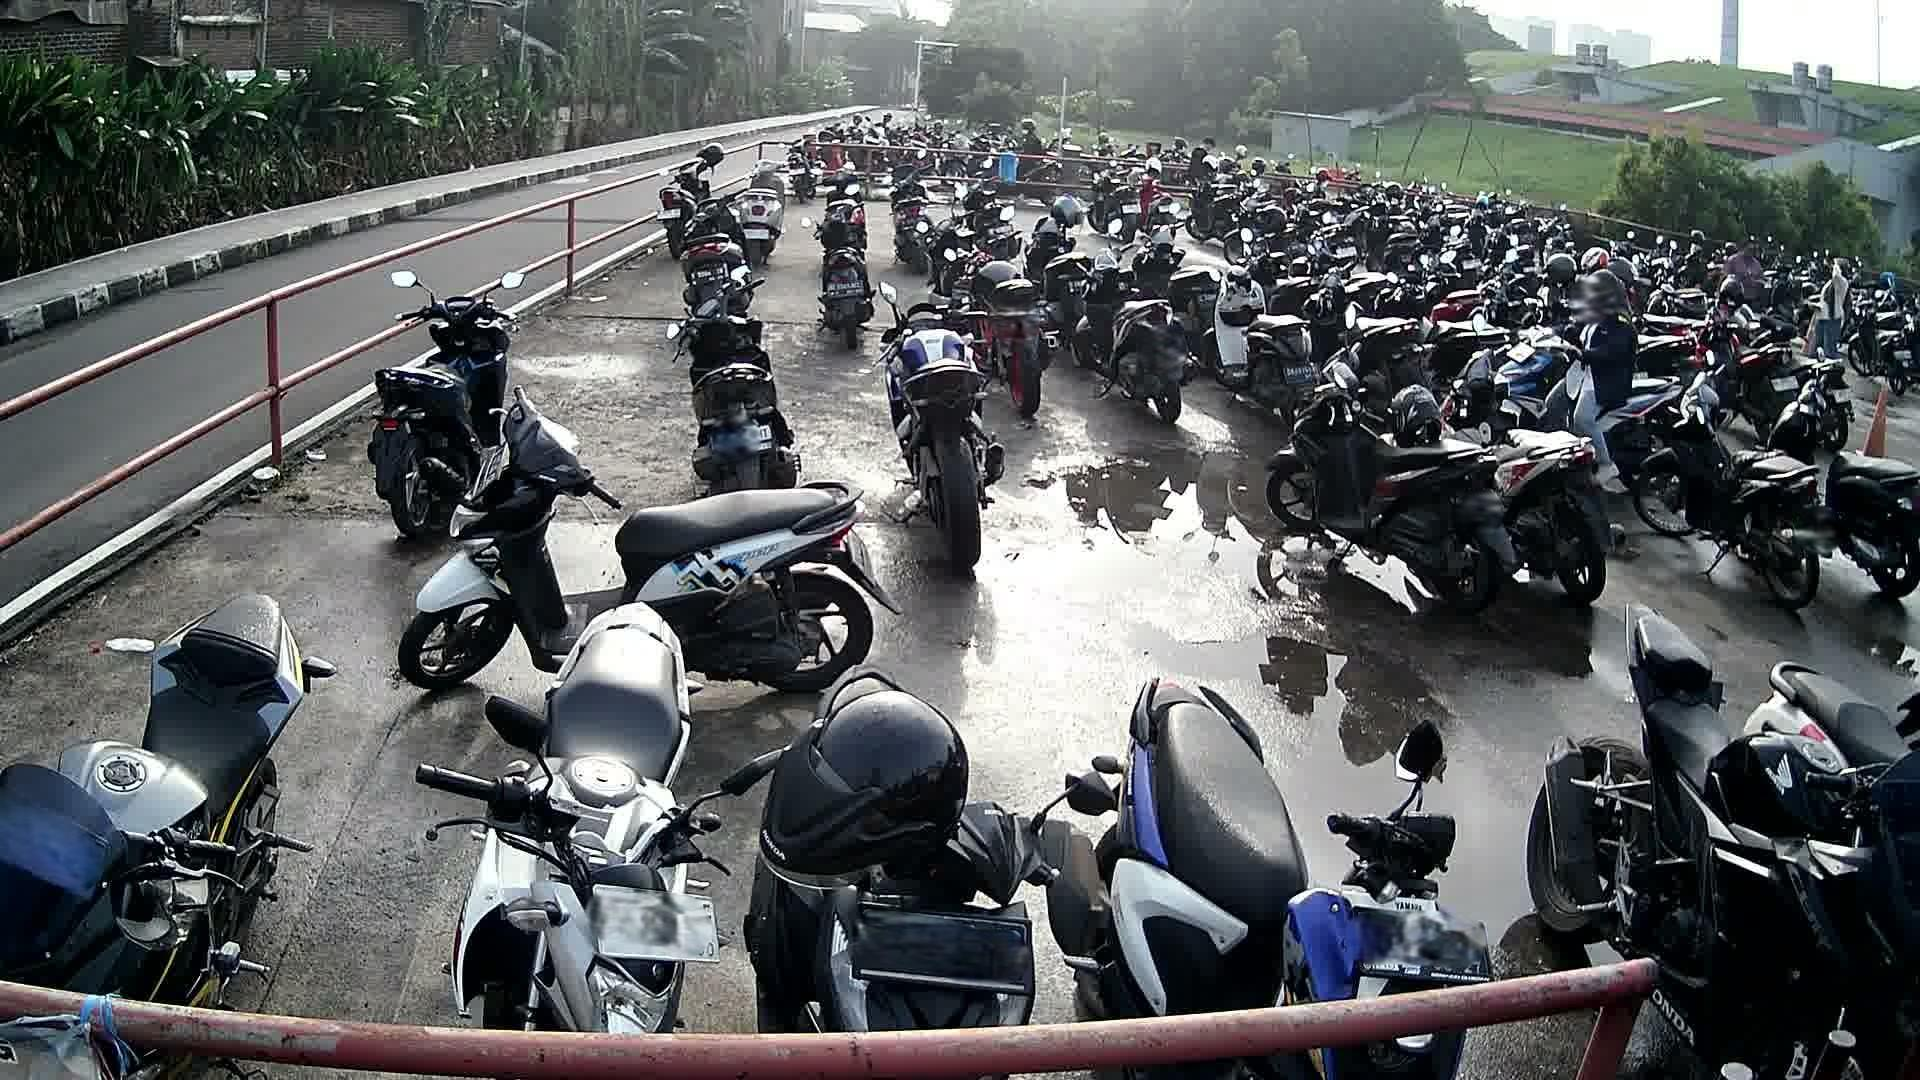motorcycle: (397, 390, 905, 691), (1043, 670, 1487, 992), (1526, 600, 1920, 957), (0, 588, 345, 996), (419, 601, 741, 1033), (741, 666, 1089, 1036), (1266, 357, 1522, 613), (1635, 363, 1832, 609), (1436, 353, 1626, 603), (368, 262, 530, 542), (872, 278, 1013, 568), (1774, 369, 1920, 600), (665, 265, 807, 488), (1738, 637, 1920, 769)
